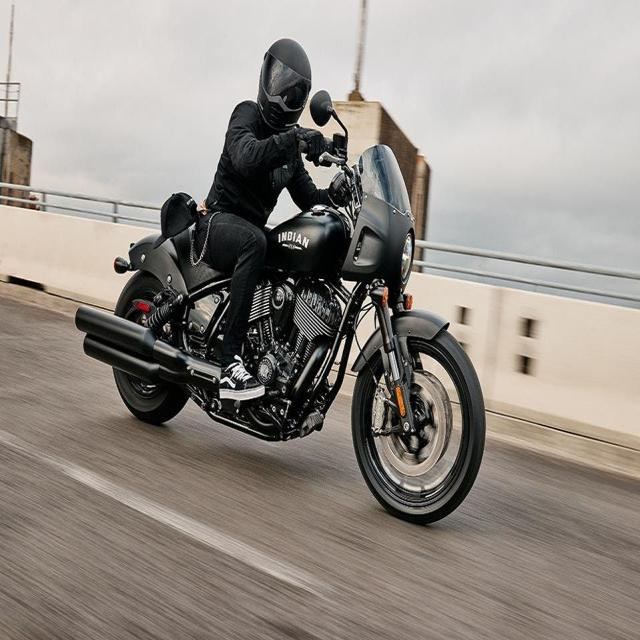motorcycle: (76, 39, 485, 522)
